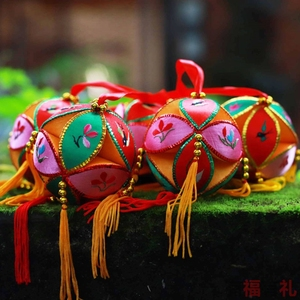xiuqiu: (132, 98, 243, 194), (36, 101, 137, 203)
